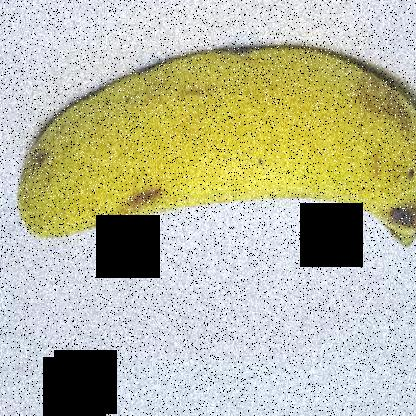freshripe: (9, 34, 415, 278)
